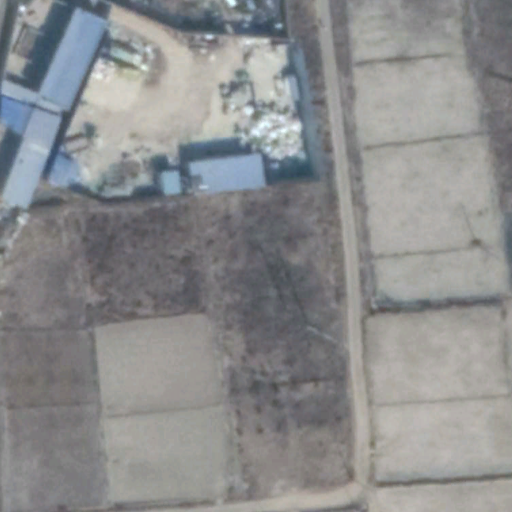msw: (236, 103, 308, 184)
